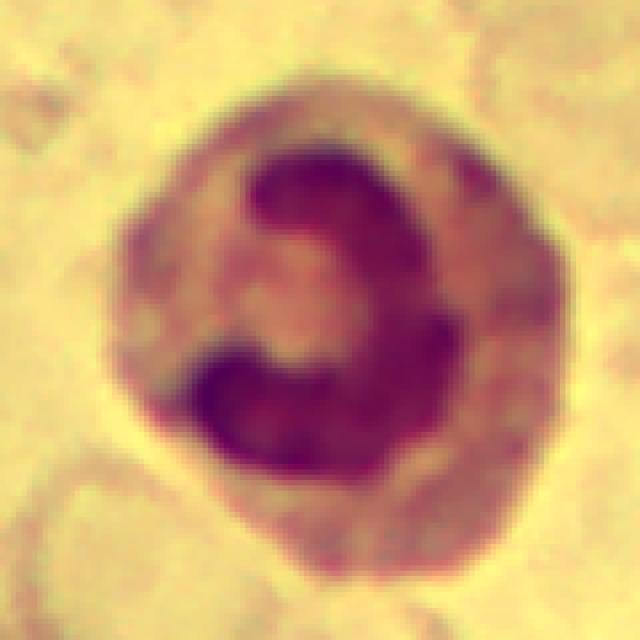WBC: (85, 53, 592, 592)
